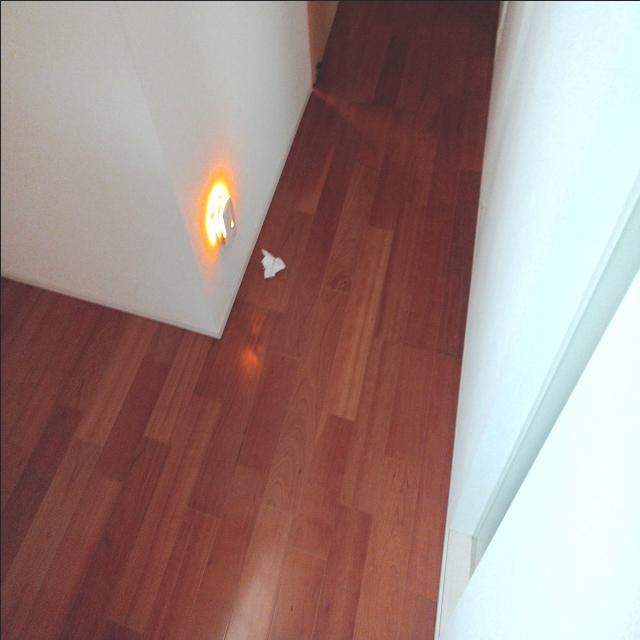Paper: (258, 244, 290, 286)
